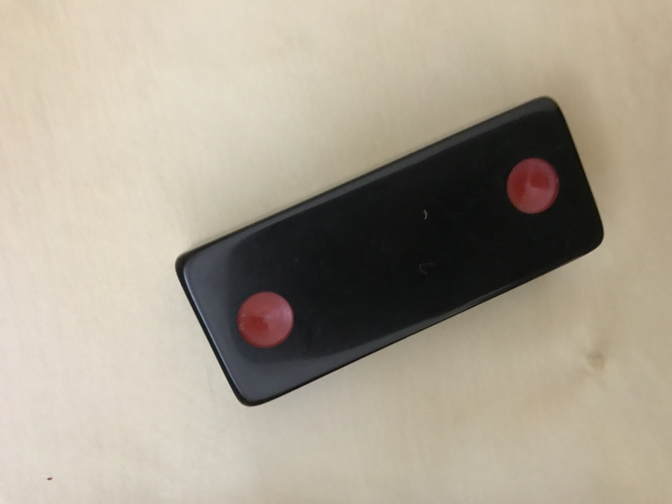earth: (174, 96, 606, 407)
